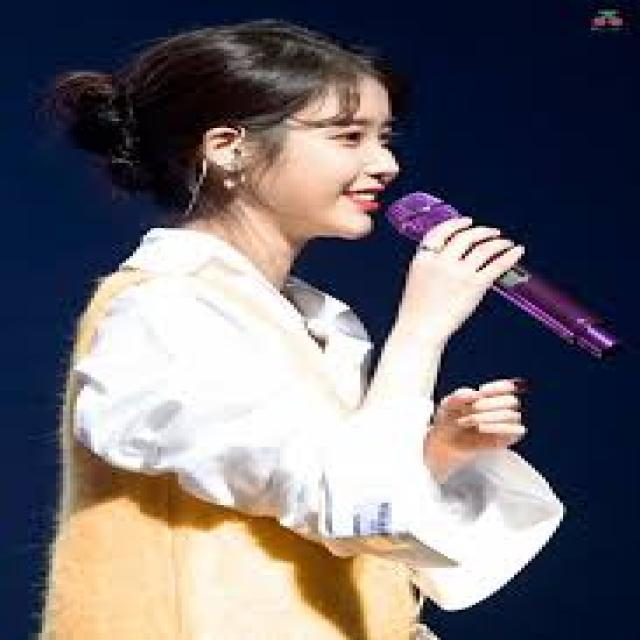earphone: (211, 132, 249, 172)
